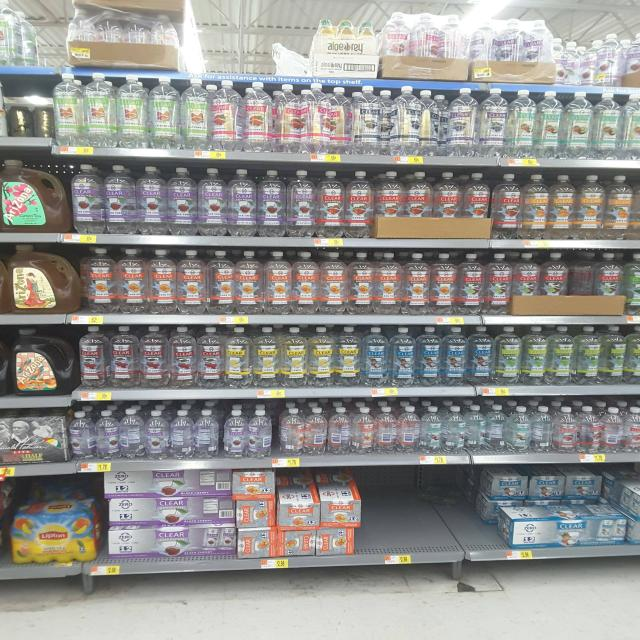void: (371, 472, 480, 548), (191, 12, 307, 72), (20, 1, 63, 68)
